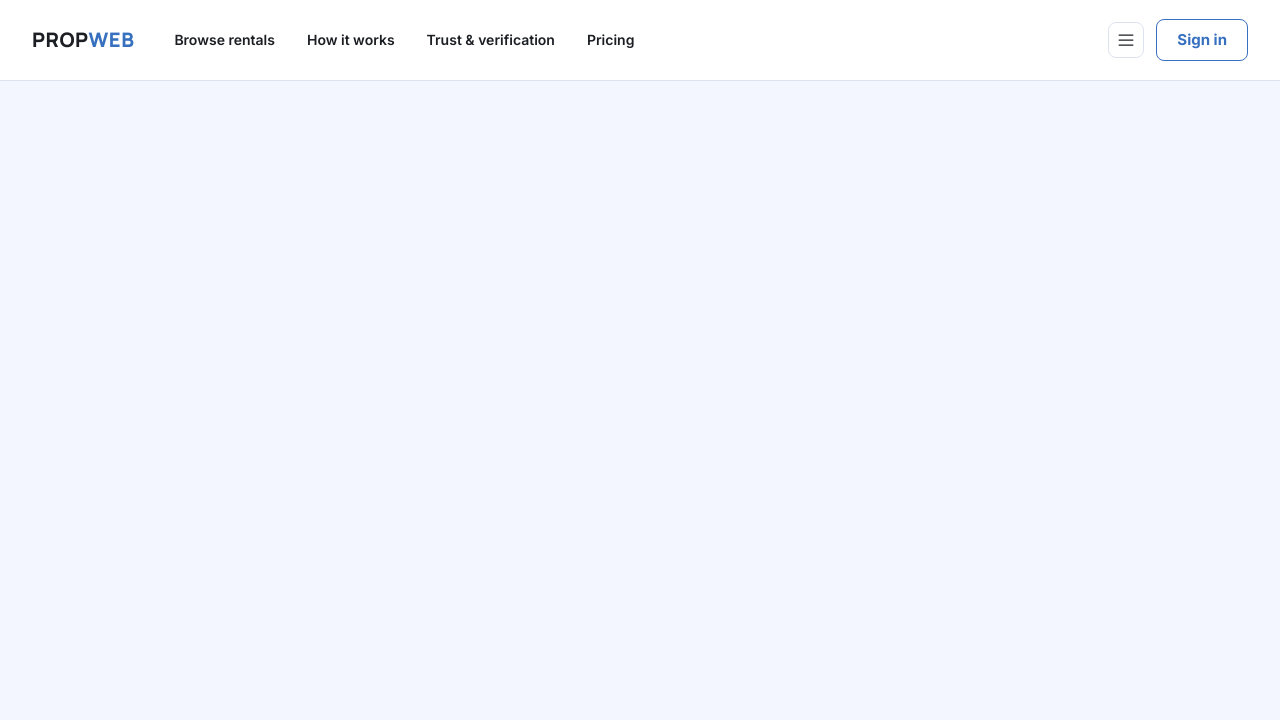
Navbar › opens the slide-in menu from the desktop hamburger button too
What coordinates should you click on to do the following:
click the button named "Open menu"
I would click on:
 (1126, 40)
Its box is [1108,22,1144,58].
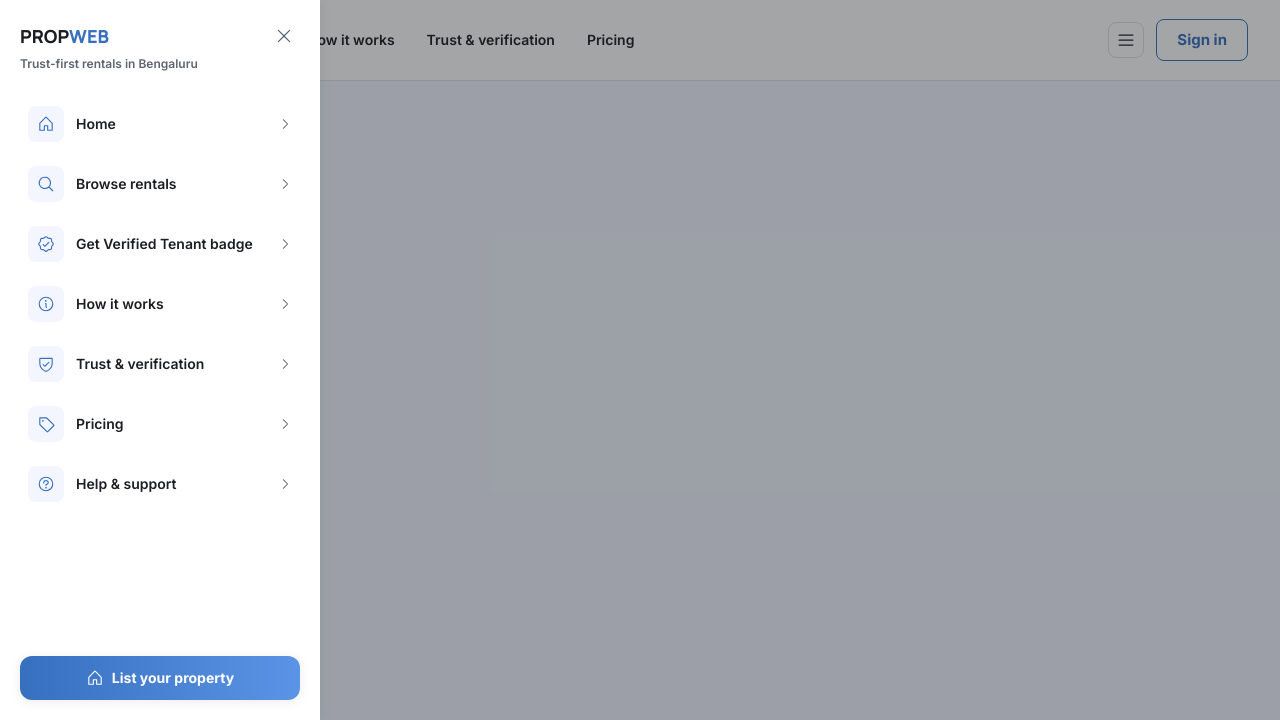
Check: the button named "Close menu" is shown, box [268,20,300,52]
